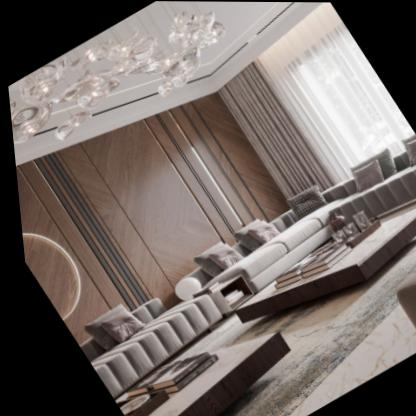Curtains: (217, 2, 412, 198)
Sofa: (188, 130, 416, 305), (58, 258, 237, 399)
Wall Panel: (13, 89, 286, 344)
